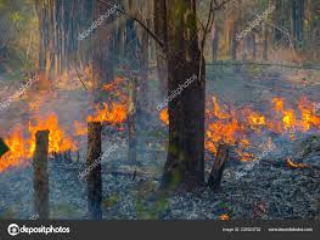fire: (211, 95, 320, 153), (3, 116, 80, 164), (79, 89, 144, 126)
